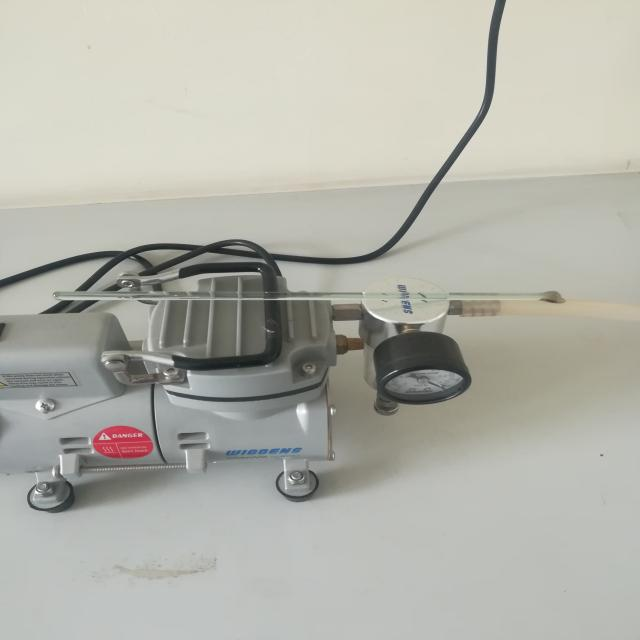Glass_Rod: (39, 263, 564, 335)
